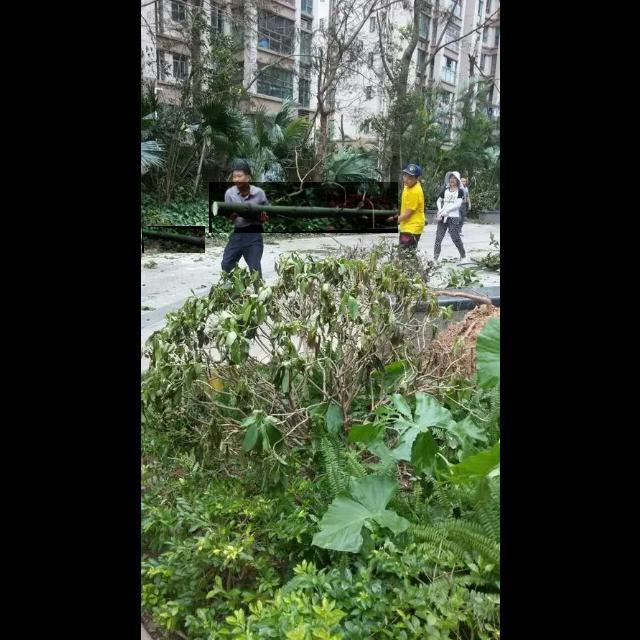fallen_tree: (209, 182, 399, 234), (142, 226, 206, 254)
